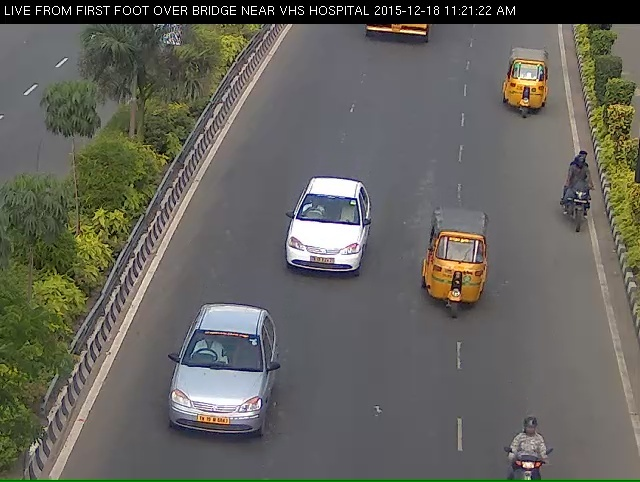Car: (158, 333, 268, 469), (277, 191, 362, 291), (421, 217, 493, 333), (499, 44, 553, 127)
Person: (563, 158, 600, 237)
